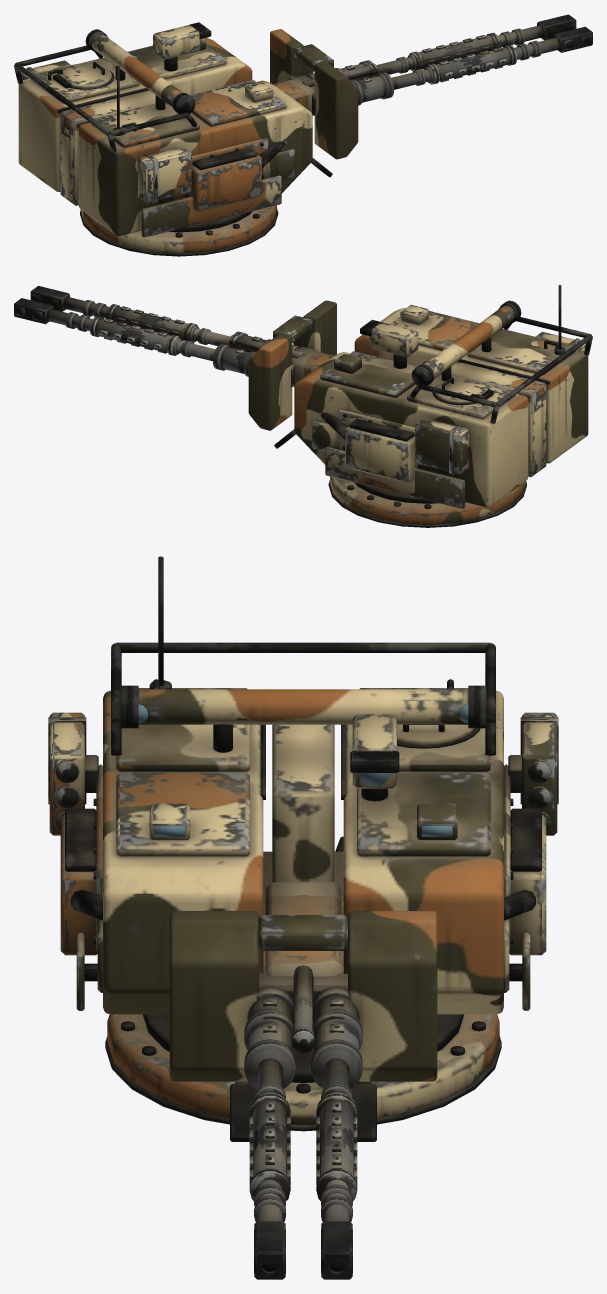
File: turret_kit_t3.glb
The picture shows the model from 3 angles, top to bottom: view 1: azimuth 30°, elevation 25°; view 2: azimuth 150°, elevation 25°; view 3: azimuth 270°, elevation 25°; orthographic projection. The views are drawn at different scales.
Parts seen in each view (by area): view 1: turret_twin_t3, guns, pods; view 2: turret_twin_t3, guns, pods; view 3: turret_twin_t3, guns, pods.
Part boxes in pixels (x1,y1,x2,y2): turret_twin_t3: (14, 22, 358, 256); guns: (273, 14, 592, 115); pods: (21, 60, 191, 202); turret_twin_t3: (248, 285, 592, 527); guns: (14, 286, 333, 387); pods: (415, 331, 586, 474); turret_twin_t3: (60, 556, 546, 1141); guns: (244, 882, 362, 1279); pods: (48, 712, 558, 835).
Size of the model in its own units: 2.7 by 0.98 by 1.15.
Materials: 4 (3 with a texture image).
